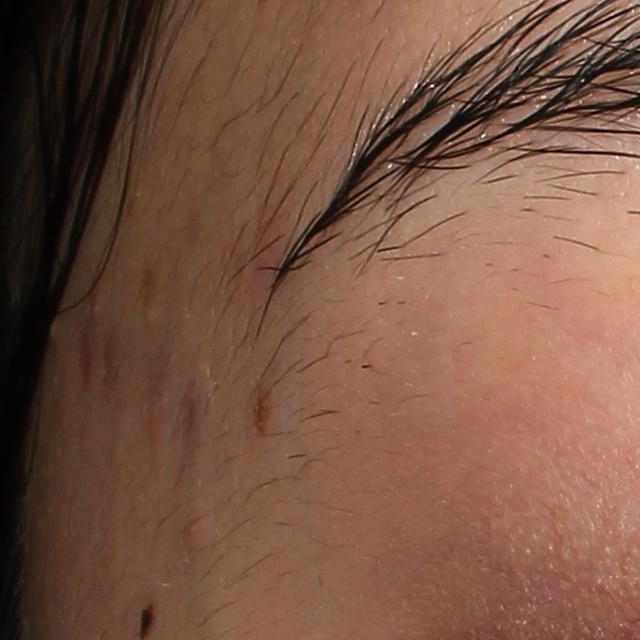nevus: (248, 374, 279, 437)
papule: (181, 514, 214, 545)
